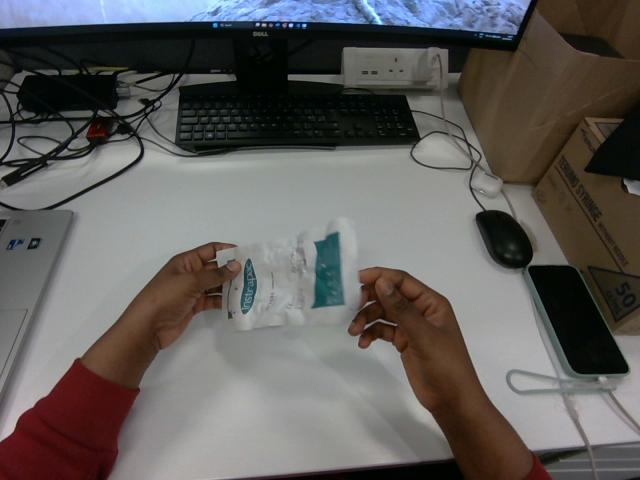gallipot: (217, 218, 359, 329)
